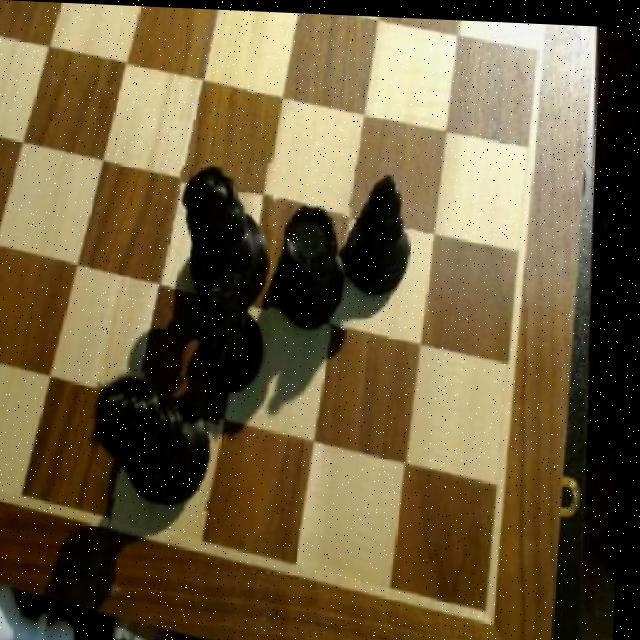bishop: (344, 163, 421, 296)
black-bishop: (92, 367, 225, 506)
black-king: (193, 270, 280, 394)
black-pawn: (179, 160, 278, 296)
black-queen: (272, 199, 358, 326)
